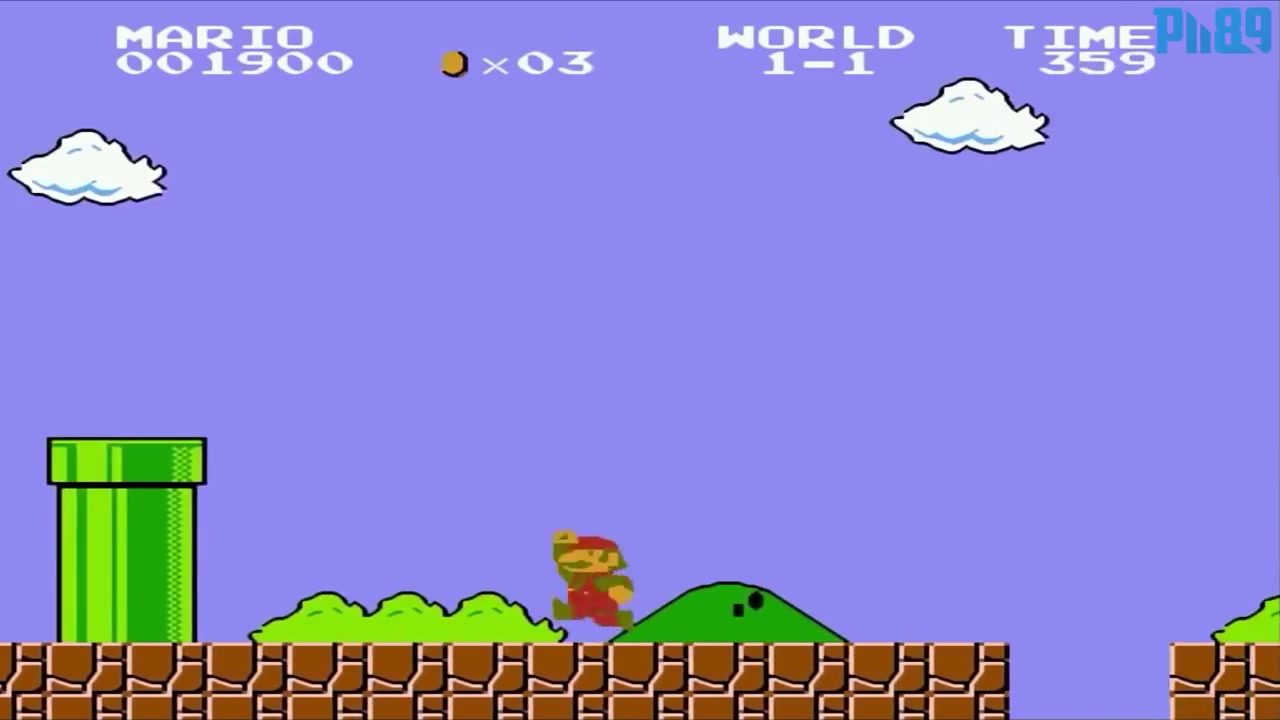mario: (536, 519, 646, 634)
